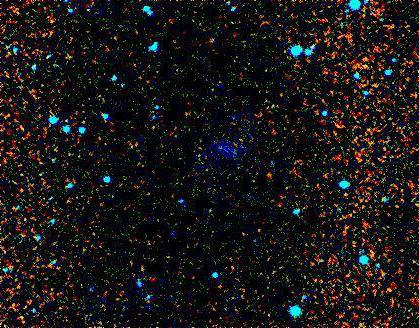star: (350, 49, 380, 79)
